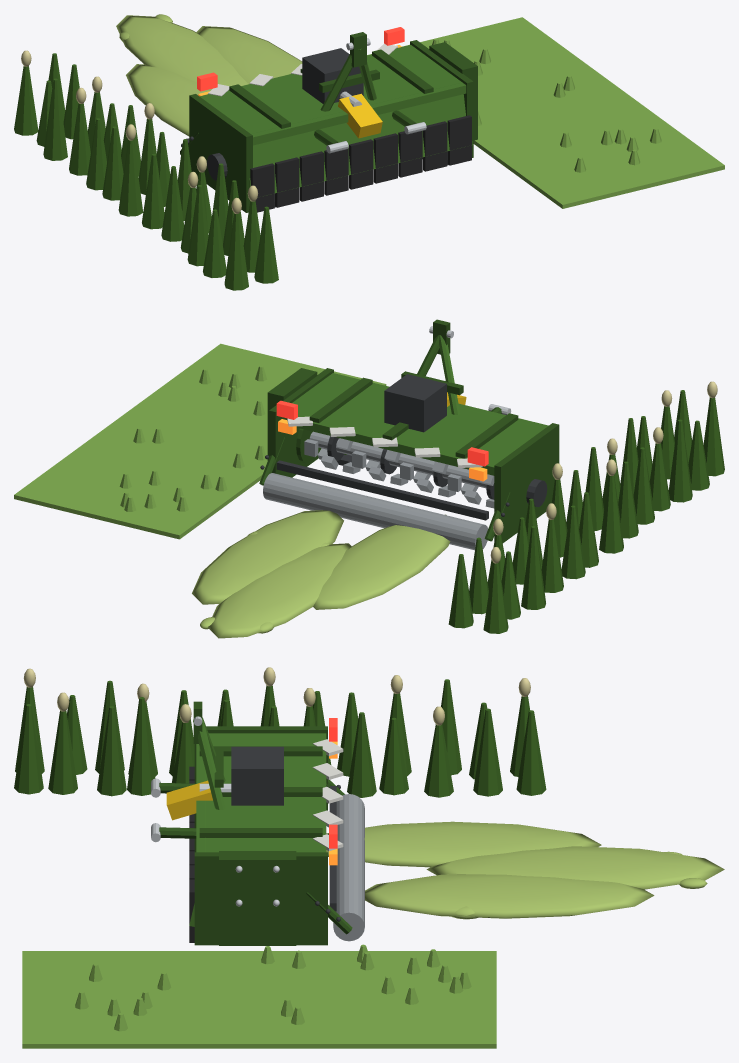
File: flail_mower.glb
3 renders of one model, top to bottom at view 1: azimuth 30°, elevation 25°; view 2: azimuth 150°, elevation 25°; view 3: azimuth 270°, elevation 25°, orthographic. The views are drawn at different scales.
Visible parts, largest first — view 1: GrassProps, MowerBody; view 2: GrassProps, MowerBody, FlailRotor; view 3: GrassProps, MowerBody.
Part boxes in pixels (bbox=[...]): GrassProps: bbox=[14, 14, 724, 290]; MowerBody: bbox=[180, 27, 477, 212]; GrassProps: bbox=[14, 343, 724, 638]; MowerBody: bbox=[259, 319, 559, 550]; FlailRotor: bbox=[296, 428, 494, 508]; GrassProps: bbox=[14, 667, 724, 1048]; MowerBody: bbox=[151, 701, 364, 945].
Size of the model in its own units: 3.85 by 1.11 by 4.05.
